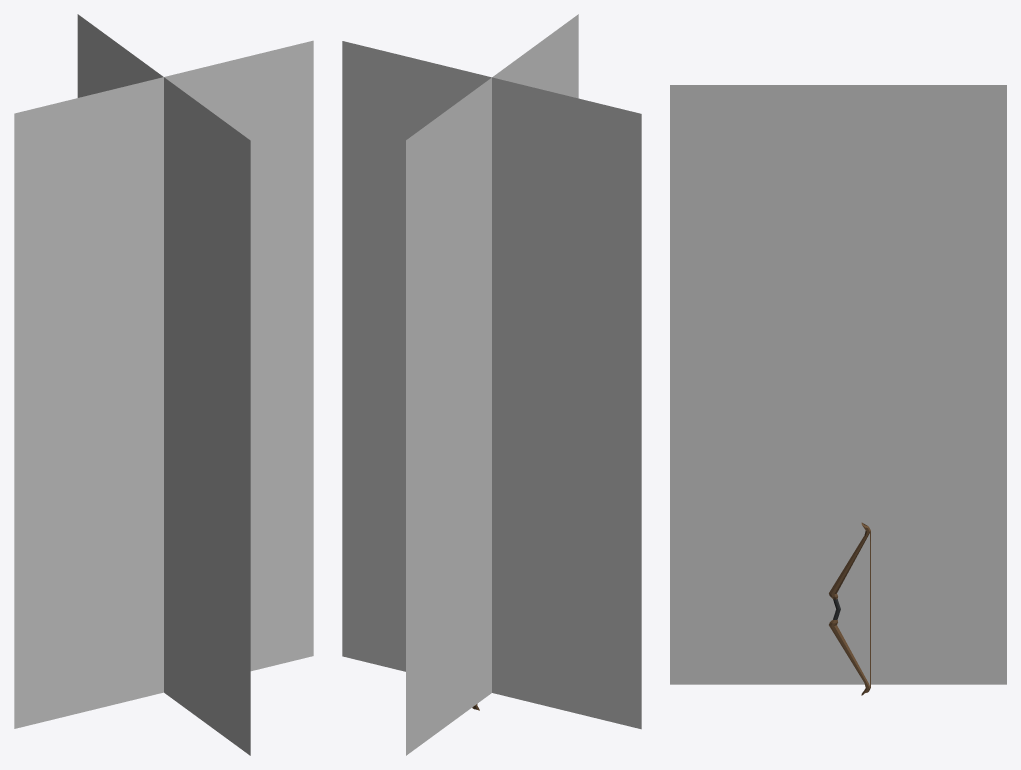
Rendered from Bow.fbx.
3 renders of one model, left to right at view 1: azimuth 30°, elevation 25°; view 2: azimuth 150°, elevation 25°; view 3: azimuth 270°, elevation 25°, orthographic. The views are drawn at different scales.
Parts seen in each view (by area): view 1: Plane, Plane.001; view 2: Plane, Plane.001; view 3: Plane.001, Cube.
Part boxes in pixels (x1,y1,x2,y2): Plane: (14,40,313,728); Plane.001: (77,14,250,755); Plane: (342,41,641,729); Plane.001: (406,14,578,755); Plane.001: (670,85,1006,684); Cube: (829,522,870,695).
Bounding box in the file's own units: 2491 × 4970 × 2491.
2 materials, 1 textured.
